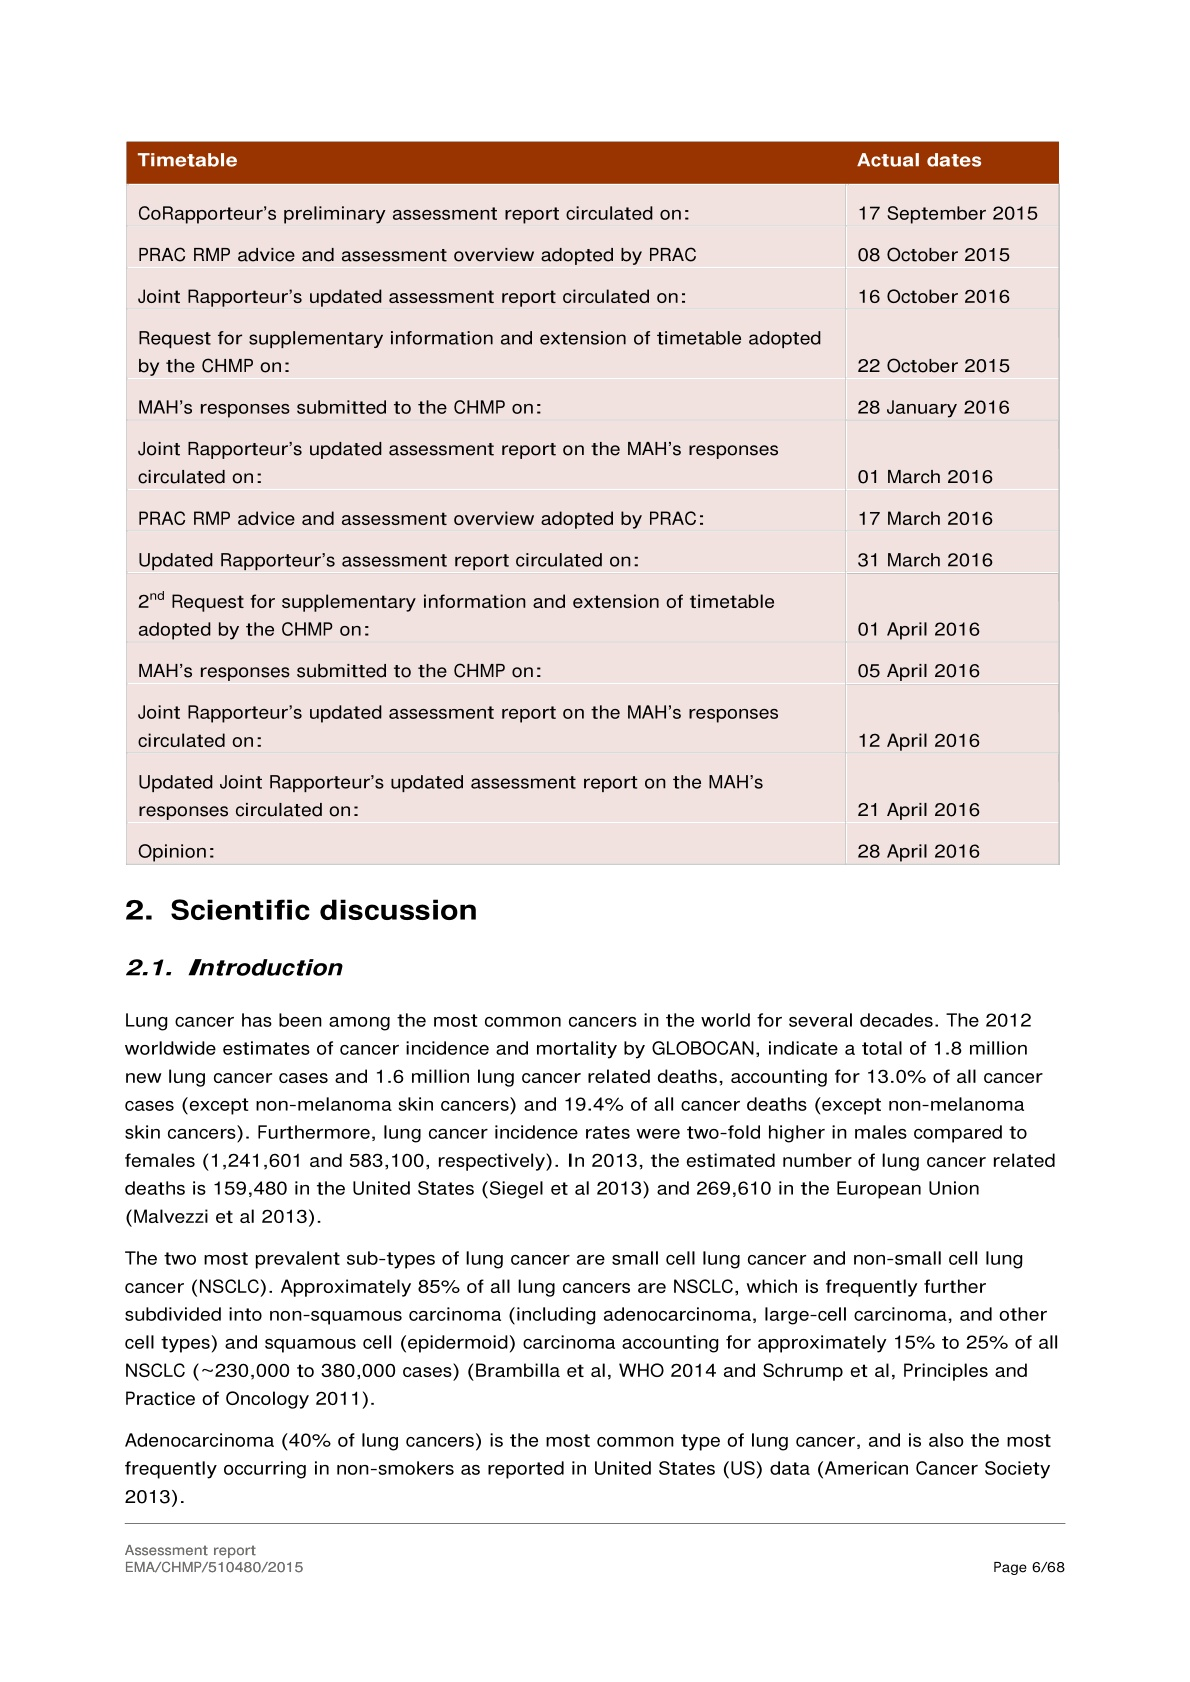full_lined: (124, 130, 1068, 863)
